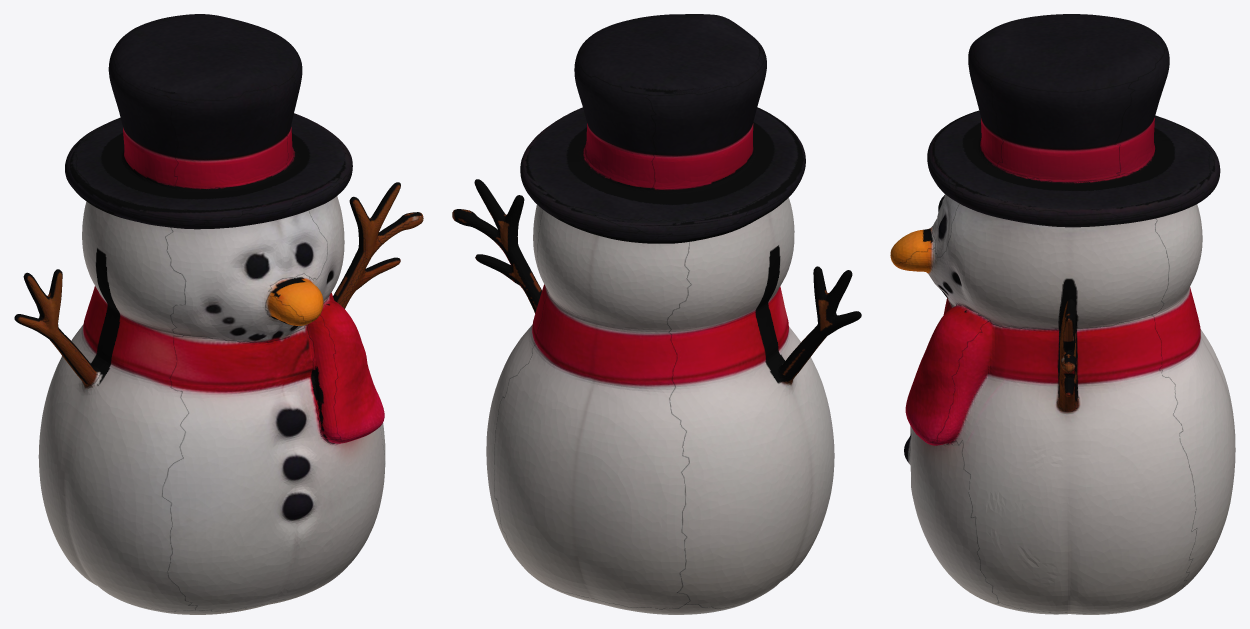
File: mesh_pbr.obj
3 renders of one model, left to right at view 1: azimuth 30°, elevation 25°; view 2: azimuth 150°, elevation 25°; view 3: azimuth 270°, elevation 25°, orthographic.
Visible parts, largest first — view 1: mesh_pbr; view 2: mesh_pbr; view 3: mesh_pbr.
Boxes of the visible parts, bbox=[...] form: mesh_pbr: bbox=[14, 14, 423, 614]; mesh_pbr: bbox=[452, 14, 861, 614]; mesh_pbr: bbox=[890, 14, 1235, 614].
Bounding box in the file's own units: 1.61 × 1.99 × 1.18.
Materials: 1 (1 with a texture image).
